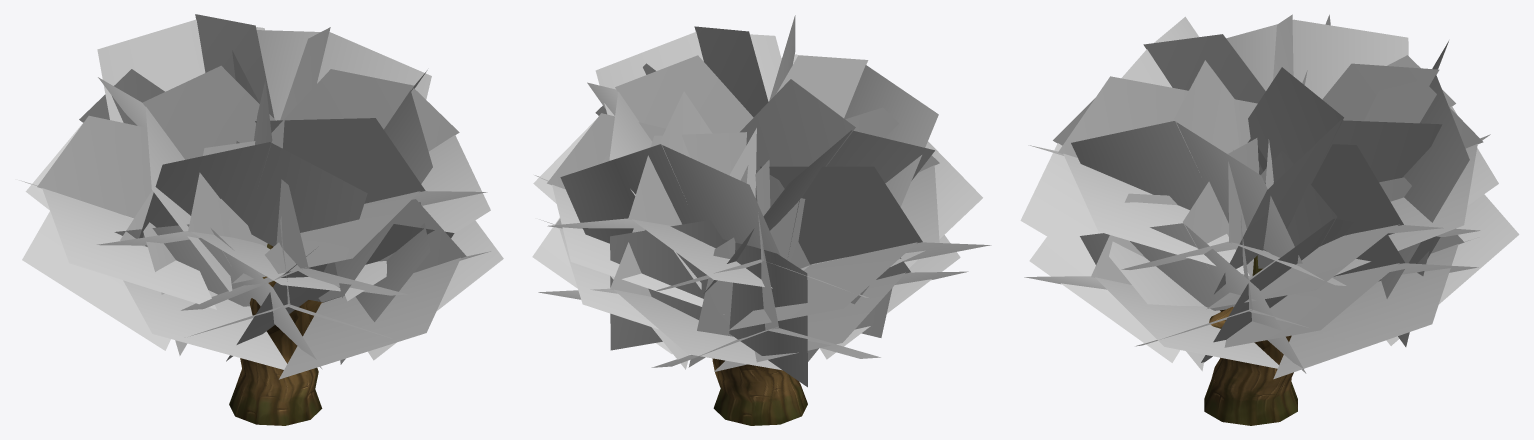
File: tree-1.FBX
The picture shows the model from 3 angles, left to right: view 1: azimuth 30°, elevation 25°; view 2: azimuth 150°, elevation 25°; view 3: azimuth 270°, elevation 25°; orthographic projection. The views are drawn at different scales.
Parts seen in each view (by area): view 1: Box001, Object001; view 2: Box001, Object001; view 3: Box001, Object001.
Boxes of the visible parts, x1,y1,x2,y2 form: Box001: (19,14,503,379); Object001: (229,244,323,425); Box001: (532,15,991,387); Object001: (712,358,807,425); Box001: (1020,14,1519,379); Object001: (1204,255,1297,425).
Size of the model in its own units: 1964 by 1577 by 1968.
